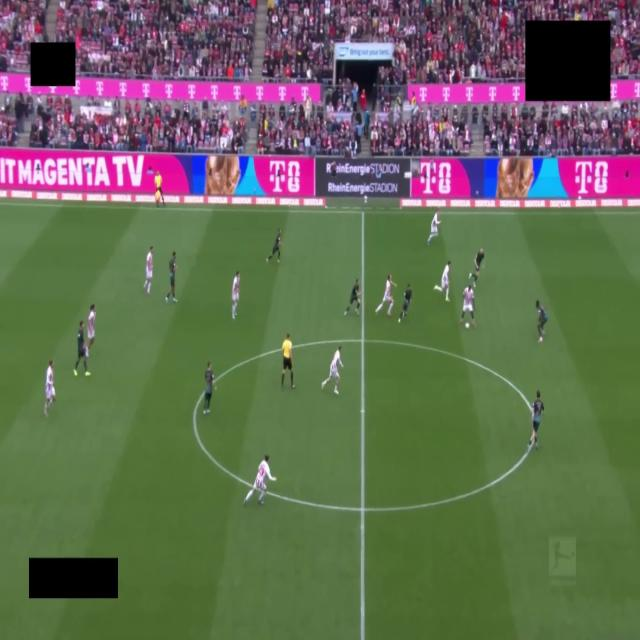ball: (465, 323, 469, 328)
player: (244, 456, 276, 504), (527, 391, 544, 452), (322, 346, 343, 394), (74, 320, 90, 376), (376, 274, 396, 316), (434, 261, 451, 302), (460, 284, 476, 327), (44, 360, 56, 417), (203, 362, 215, 414), (344, 279, 360, 315), (166, 252, 177, 303), (469, 248, 484, 284), (427, 209, 441, 245), (399, 284, 412, 322), (536, 301, 548, 342), (143, 246, 153, 295), (267, 229, 281, 263), (232, 271, 239, 319)
referee: (281, 334, 294, 389)
